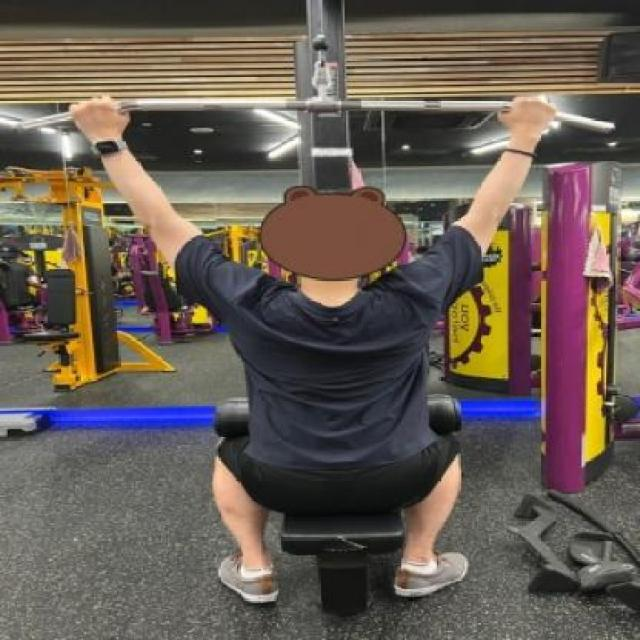Lat Pull Down: (15, 0, 632, 625)
